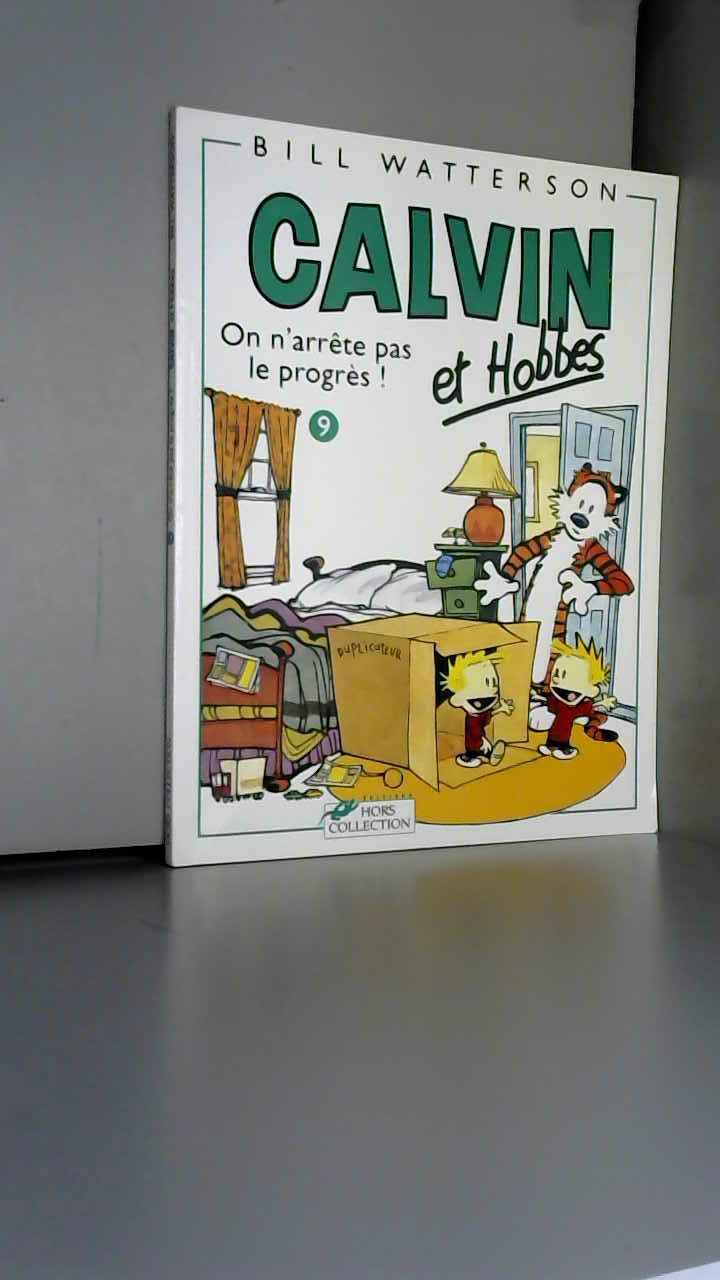book: (130, 80, 716, 940)
